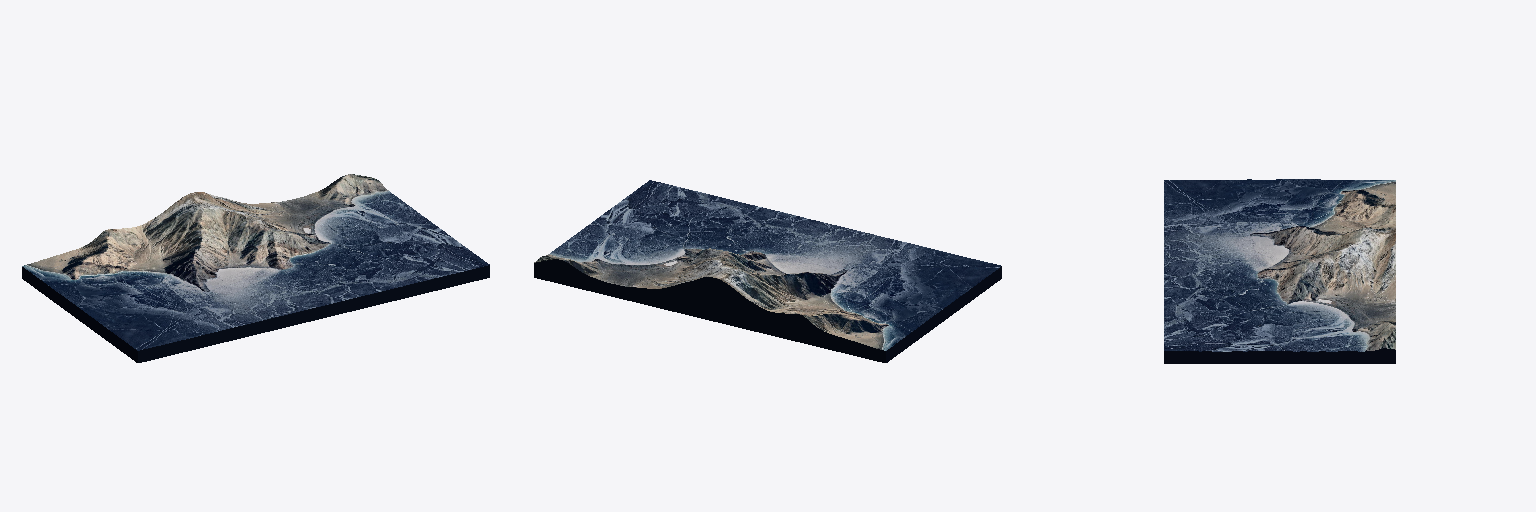
3 views of the same model, side by side, from view 1: azimuth 30°, elevation 25°; view 2: azimuth 150°, elevation 25°; view 3: azimuth 270°, elevation 25° (orthographic).
Visible parts, largest first — view 1: Pangong; view 2: Pangong; view 3: Pangong.
Boxes of the visible parts, box(x1,y1,x2,y2) form: Pangong: box(22, 174, 489, 362); Pangong: box(534, 180, 1001, 362); Pangong: box(1164, 179, 1395, 363).
Size of the model in its own units: 9.92 by 1.19 by 5.67.
2 materials, 1 textured.